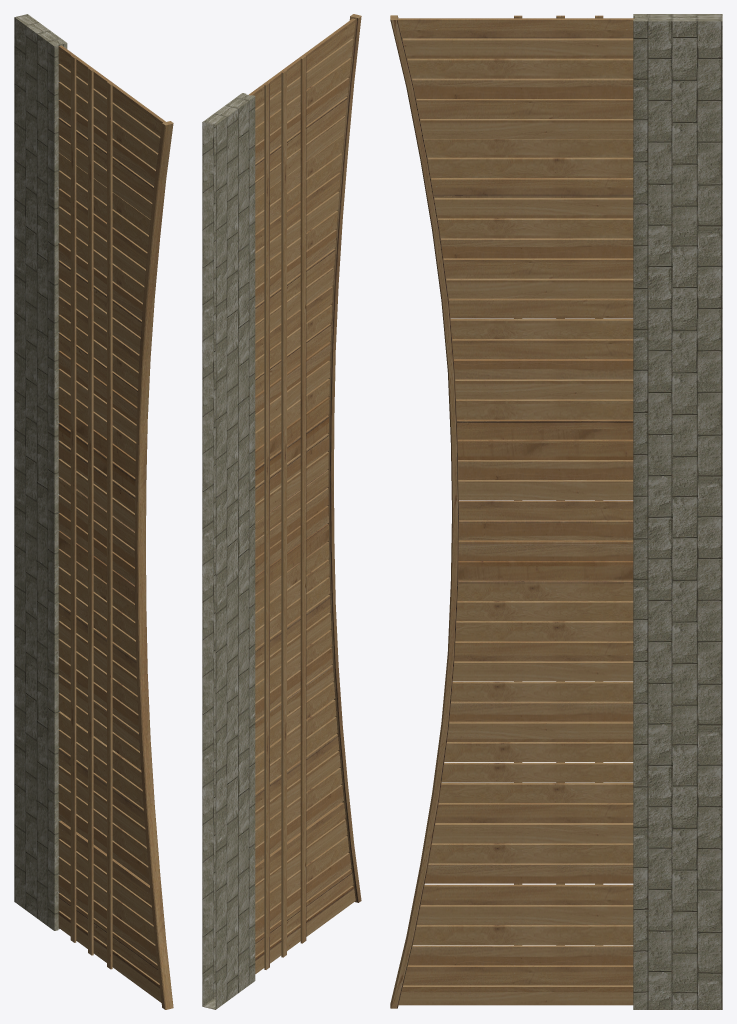
Rendered from nt_concrete_fence_256_tall_LOD0.obj.
3 views of the same model, side by side, from view 1: azimuth 30°, elevation 25°; view 2: azimuth 150°, elevation 25°; view 3: azimuth 270°, elevation 25° (orthographic). The views are drawn at different scales.
Parts seen in each view (by area): view 1: nt_wood_fence, nt_2020_concrete_pattern_02; view 2: nt_wood_fence, nt_2020_concrete_pattern_02; view 3: nt_wood_fence, nt_2020_concrete_pattern_02.
Boxes of the visible parts, x1,y1,x2,y2 form: nt_wood_fence: [58, 45, 173, 1009]; nt_2020_concrete_pattern_02: [14, 14, 67, 930]; nt_wood_fence: [248, 14, 361, 973]; nt_2020_concrete_pattern_02: [202, 93, 255, 1009]; nt_wood_fence: [390, 15, 634, 1008]; nt_2020_concrete_pattern_02: [633, 14, 722, 1009].
Bounding box in the file's own units: 10.16 × 650 × 198.
2 materials, 2 textured.
